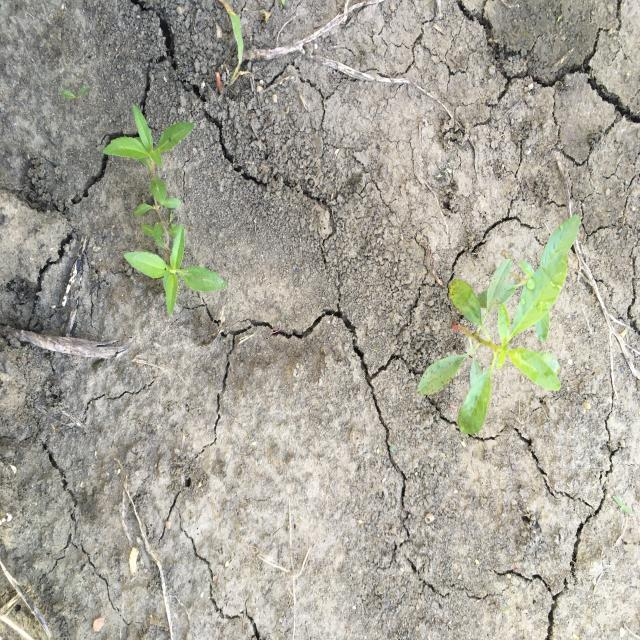Eclipta: (101, 103, 229, 320)
Waterhemp: (415, 212, 583, 438)
